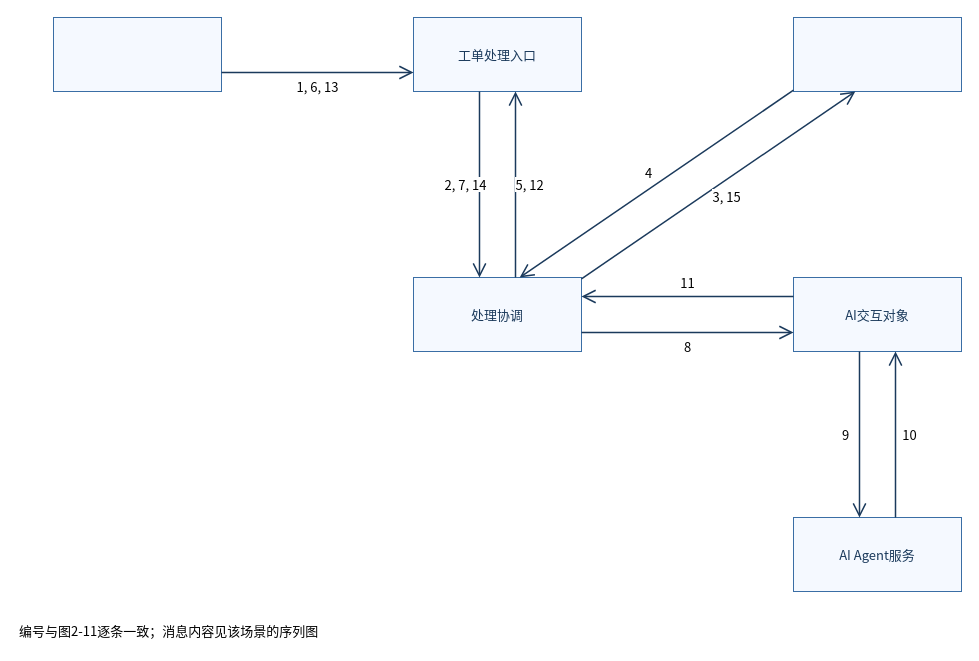
The diagram is 979 pixels wide and 661 high, and some of its shapes have lost their labels. The shapes that lost their labels are listed below. From the top down, each one's box as (x1, y1, x2, y2) in pixels, then its label:
(52, 16, 222, 92): 运维人员
(792, 16, 962, 92): 故障工单
